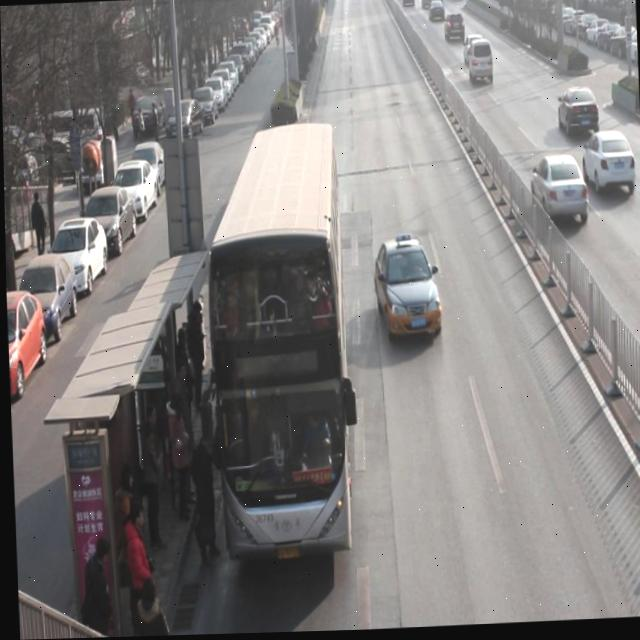car: (370, 233, 441, 343), (528, 152, 589, 227), (580, 129, 632, 196), (555, 87, 599, 139), (443, 12, 465, 42), (463, 34, 483, 64), (429, 0, 445, 21), (420, 0, 433, 8), (401, 0, 415, 7)
truck: (466, 39, 494, 85)
van: (204, 122, 352, 550)
